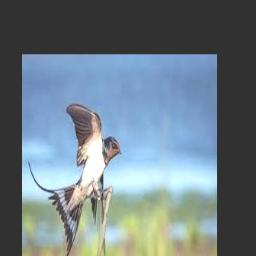Swallow: (28, 104, 120, 256)
